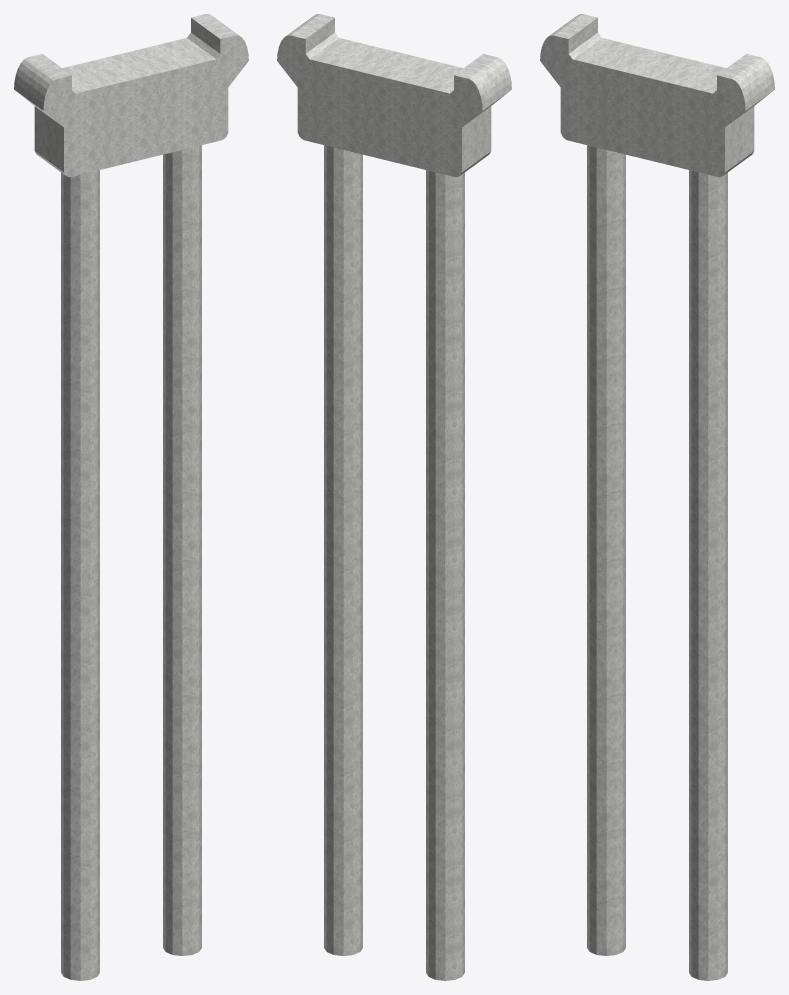
Rendered from thm_corl_imprv_bridge_insert_s01_l0.fbx.
The picture shows the model from 3 angles, left to right: view 1: azimuth 30°, elevation 25°; view 2: azimuth 150°, elevation 25°; view 3: azimuth 330°, elevation 25°; orthographic projection.
Parts seen in each view (by area): view 1: mesh_node; view 2: mesh_node; view 3: mesh_node.
Part boxes in pixels (<box>): mesh_node: <box>14,14,248,980</box>; mesh_node: <box>277,14,511,980</box>; mesh_node: <box>540,14,774,980</box>.
Bounding box in the file's own units: 8.07 × 34.27 × 2.
Materials: 1 (1 with a texture image).
